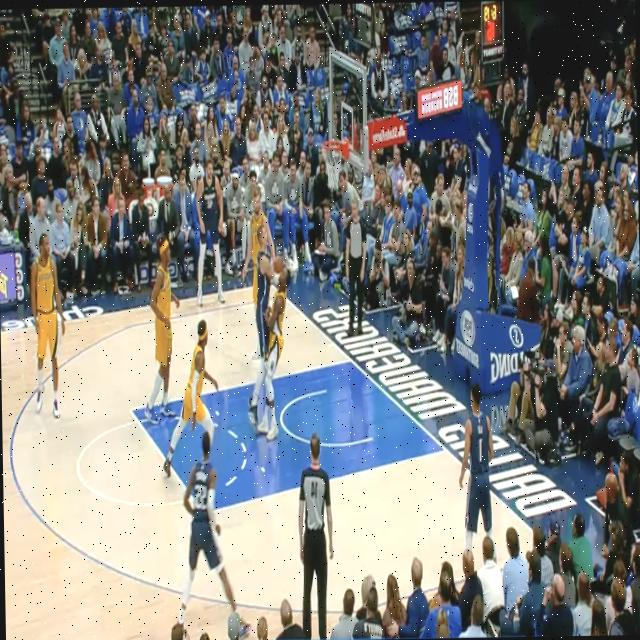Foul: (239, 234, 302, 451)
